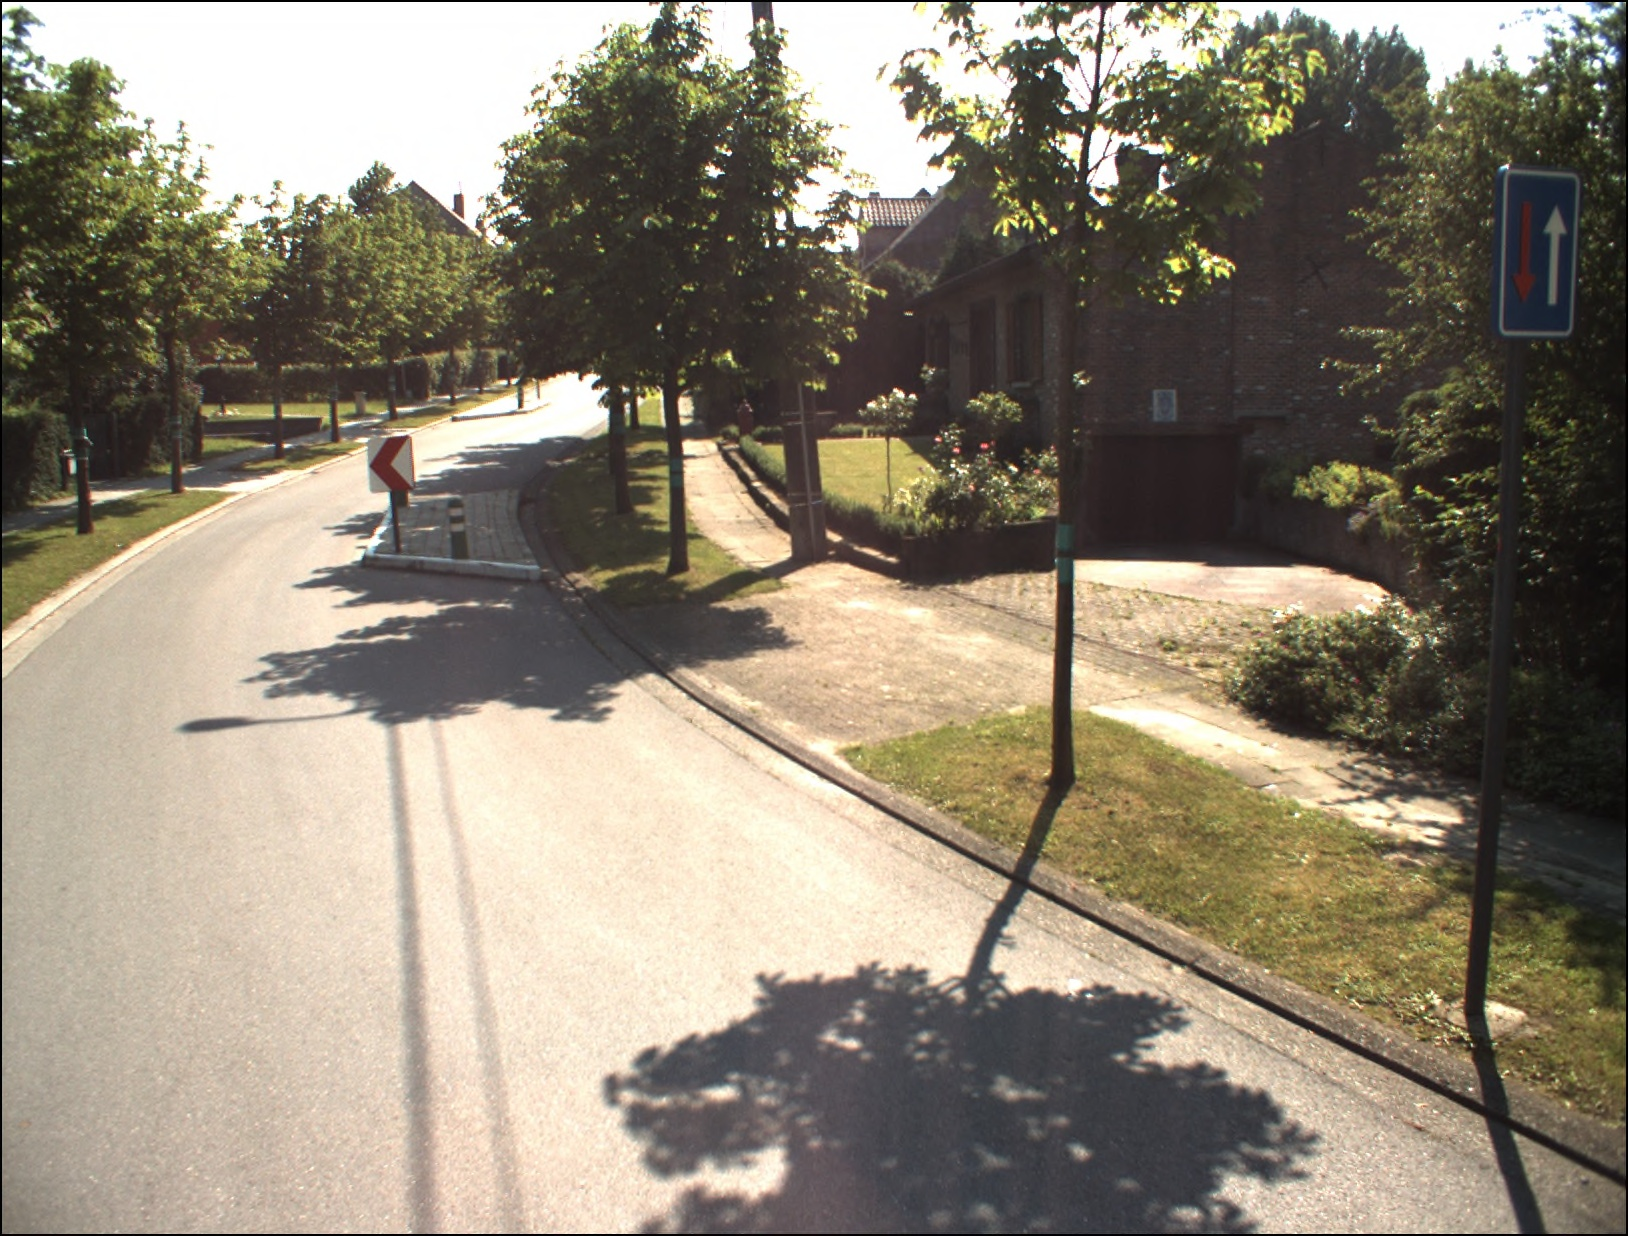roadnarrow1: (1501, 164, 1576, 343)
